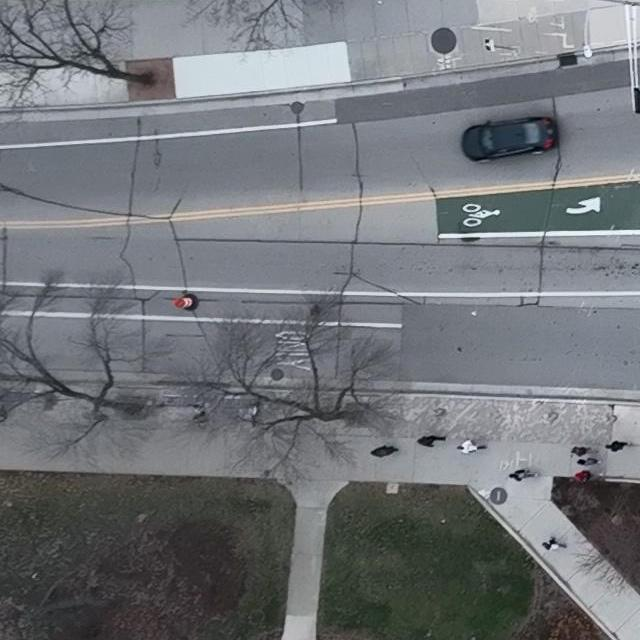car: (461, 117, 558, 164)
